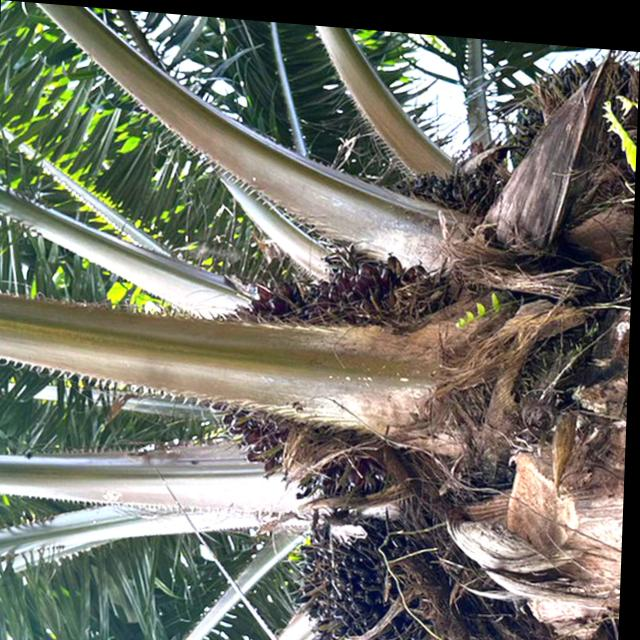ripe: (196, 236, 446, 489), (299, 504, 457, 640)
